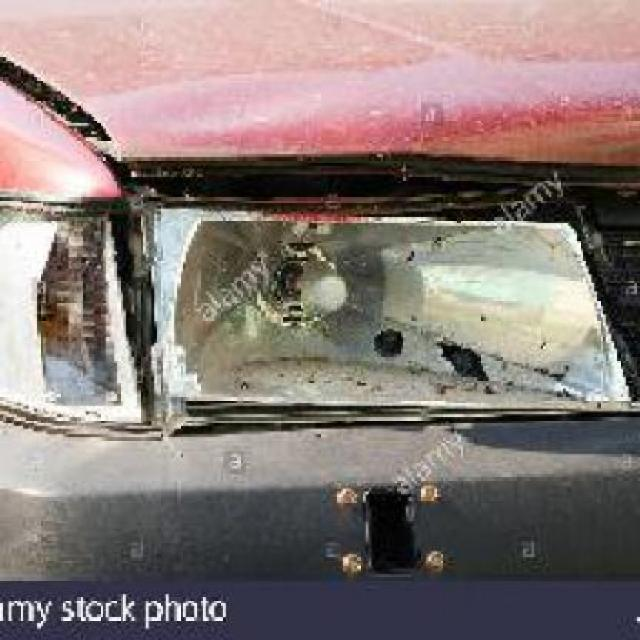damaged-head-light: (2, 190, 638, 444)
